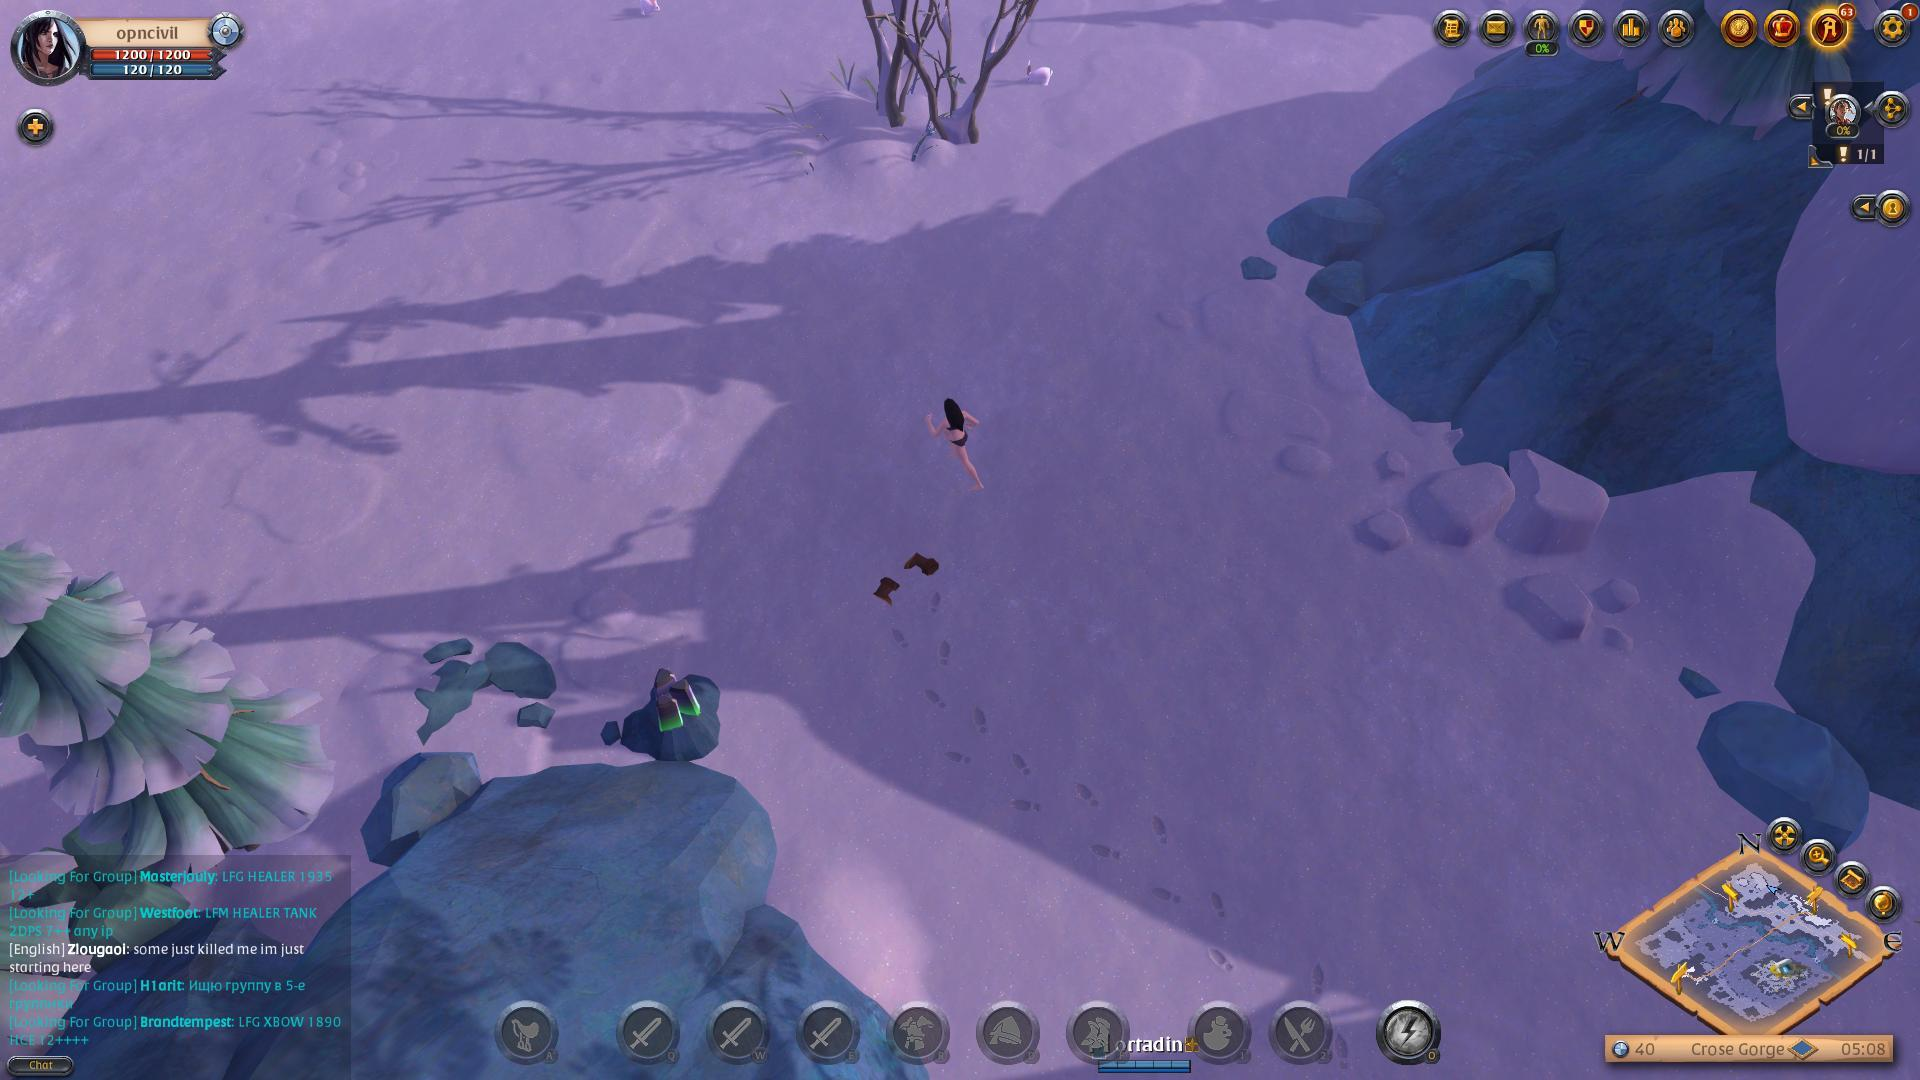tin_ore: (615, 649, 749, 767)
